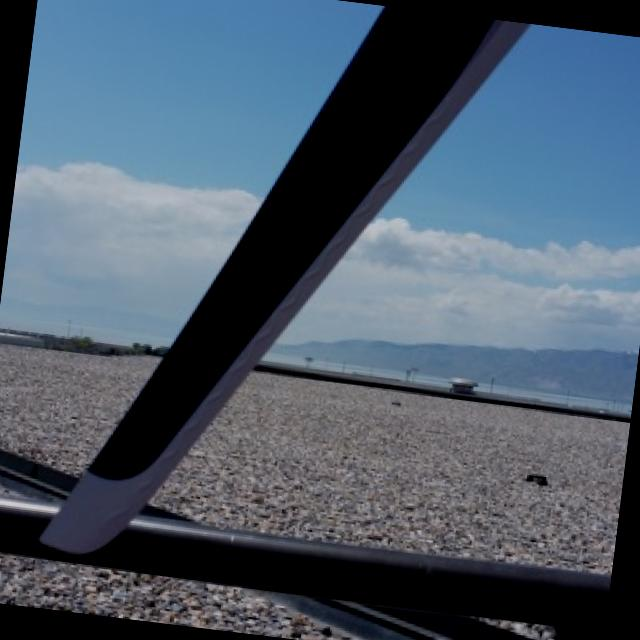healthy: (573, 43, 640, 237)
